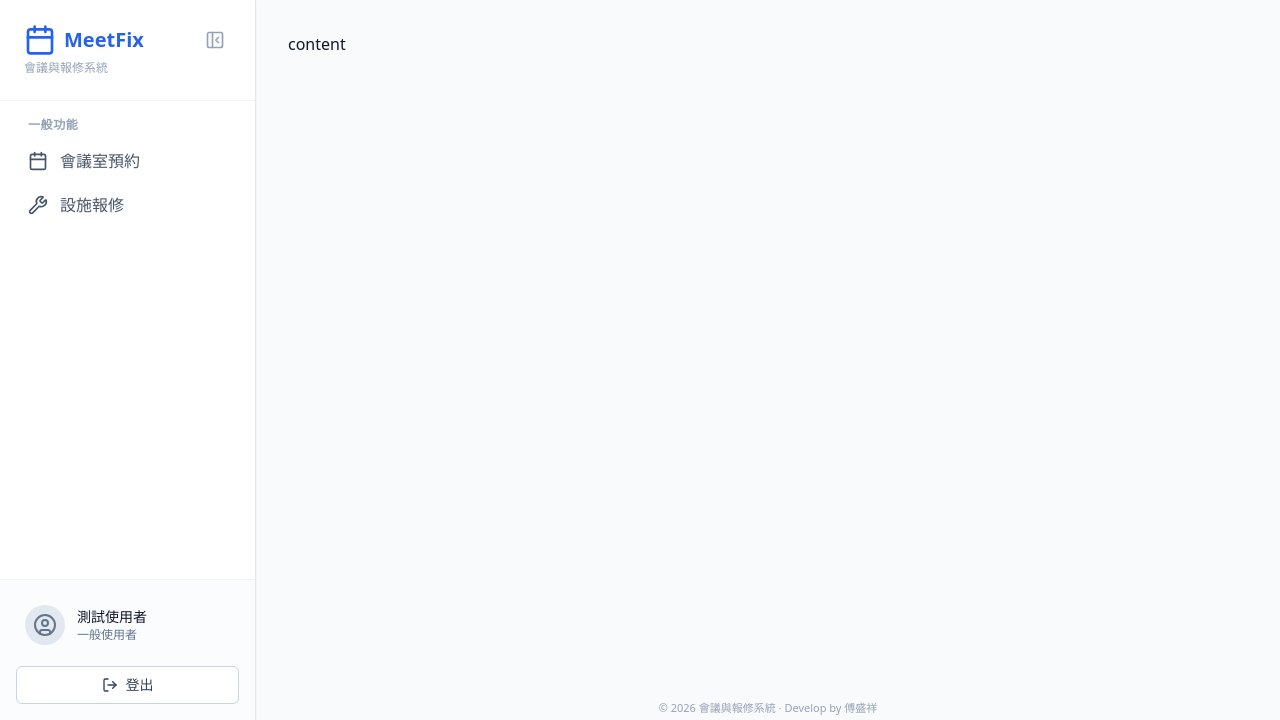
Layout — Google 帳號連結卡片依 googleEnabled 顯示／隱藏 › shows the 連結 Google button when googleEnabled is true and the user is not yet linked
What coordinates should you click on to do the following:
click the element titled "點擊開啟帳號設定"
I would click on:
 (86, 625)
Its box is 25,605 -> 147,645.
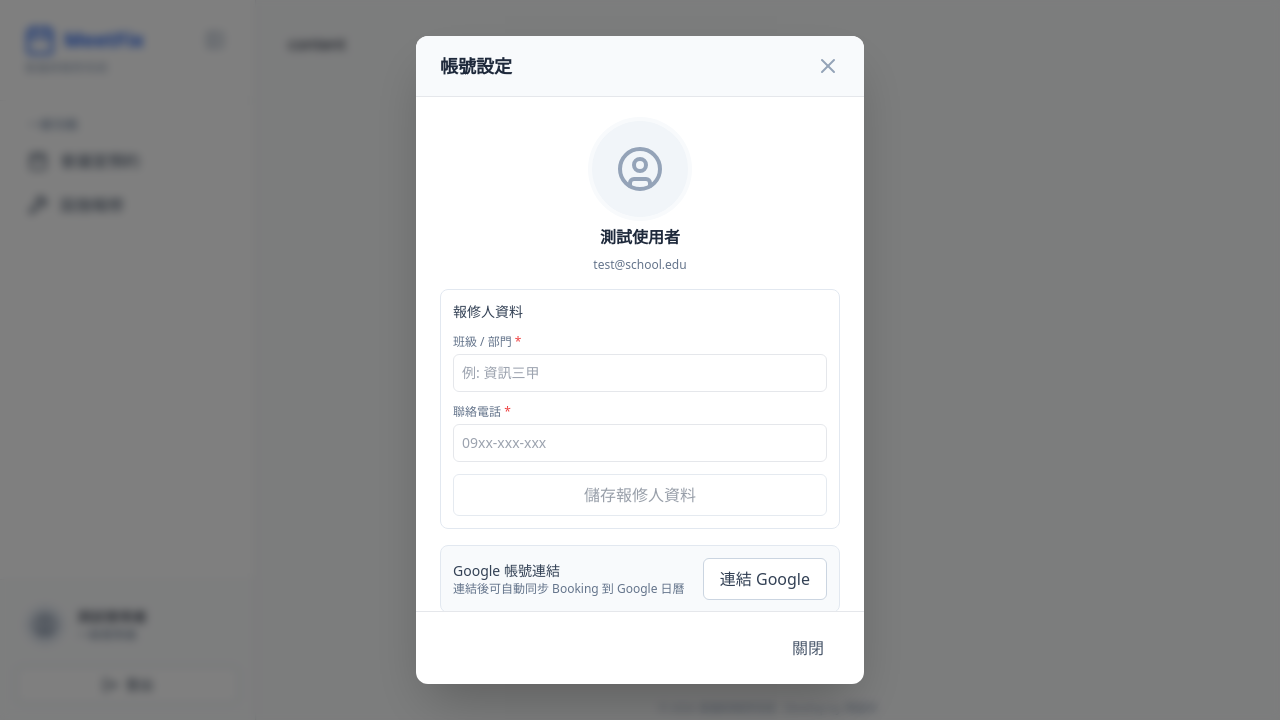
Now the heading "帳號設定" is shown, box 440,52 -> 512,80
Now the button "連結 Google" is shown, box 703,558 -> 827,600
